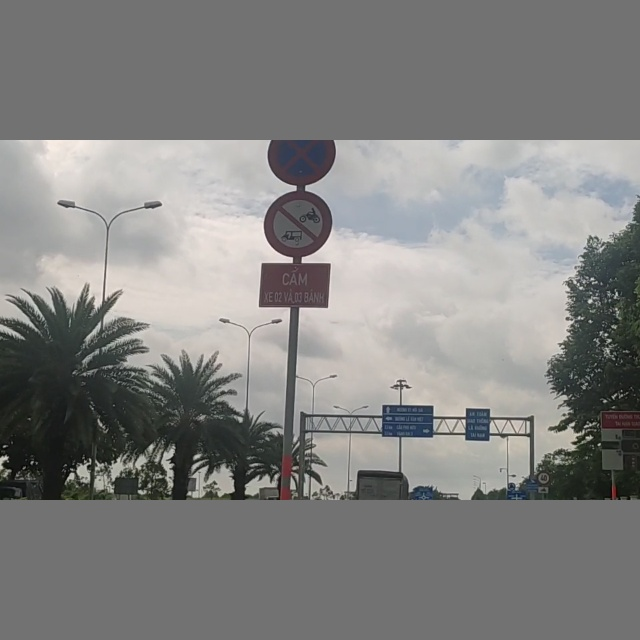P.111: (260, 190, 333, 259)
